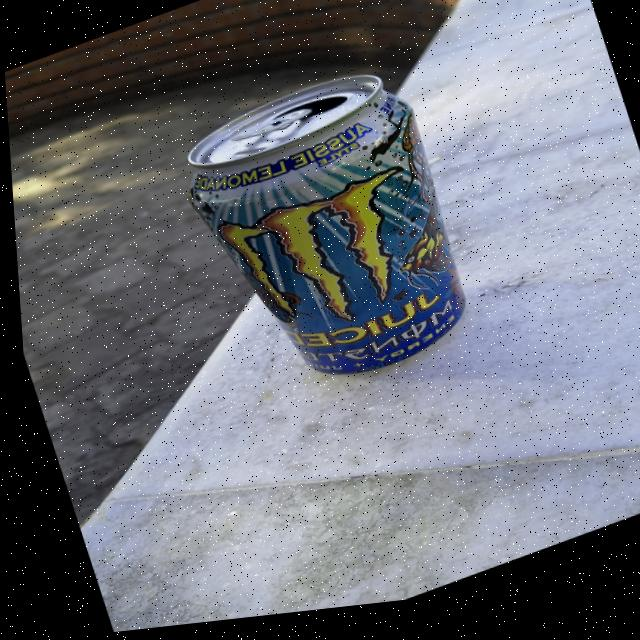Monster Aussie Lemonade: (171, 53, 482, 418)
